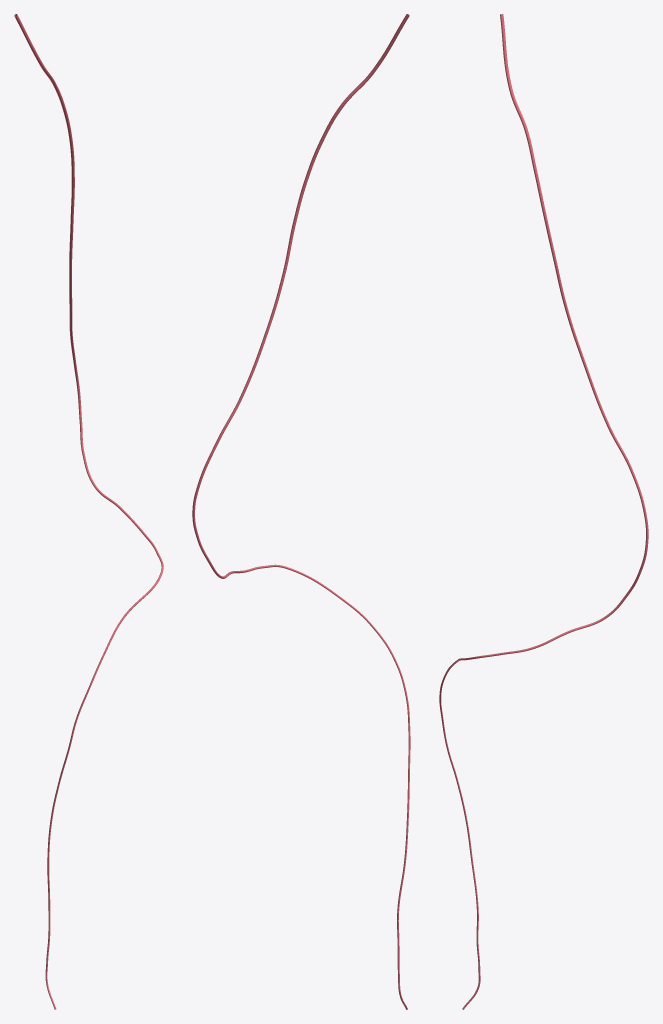
3 renders of one model, left to right at view 1: azimuth 30°, elevation 25°; view 2: azimuth 150°, elevation 25°; view 3: azimuth 270°, elevation 25°, orthographic. The views are drawn at different scales.
Visible parts, largest first — view 1: ZA_b4767ae68b697fba; view 2: ZA_b4767ae68b697fba; view 3: ZA_b4767ae68b697fba.
Boxes of the visible parts, left/top/right/bottom form: ZA_b4767ae68b697fba: left=14, top=14, right=163, bottom=1009; ZA_b4767ae68b697fba: left=192, top=14, right=410, bottom=1009; ZA_b4767ae68b697fba: left=439, top=14, right=648, bottom=1009.
Size of the model in its own units: 0.0551 by 0.3571 by 0.0686.
